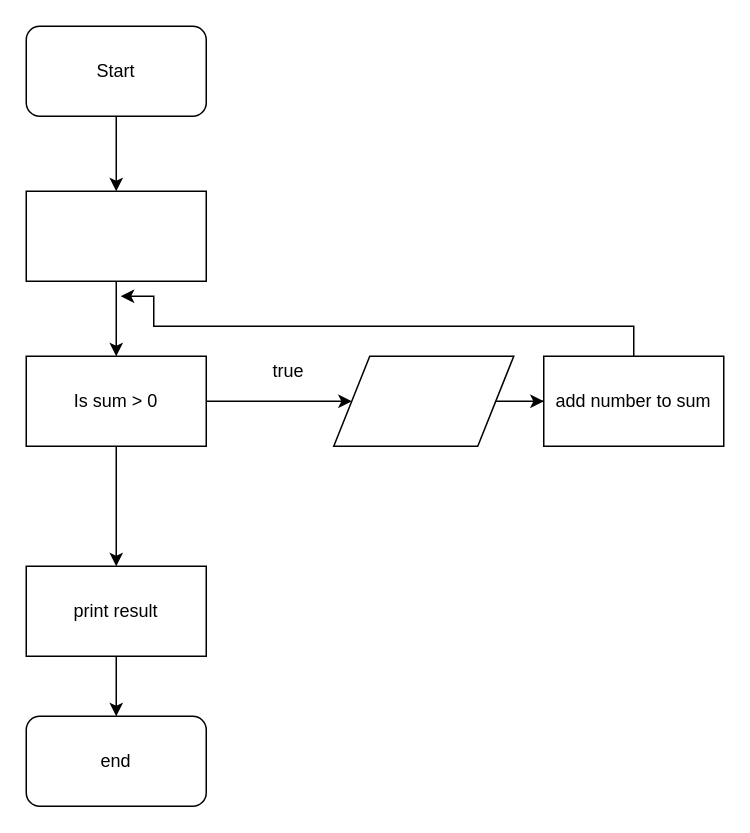
Some shapes in this 750 by 833 pixel diagram are drawn without their labels. The shapes that lost their labels are listed below. From the top down, each one's centre as x and y in pixels, then its label:
At (x=115, y=235): "Set sum to 0".
At (x=423, y=400): "get number".
